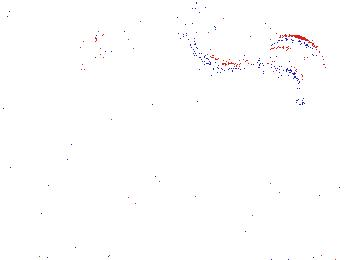moon jellyfish: (186, 1, 272, 72), (57, 1, 156, 61), (5, 7, 76, 80), (259, 36, 326, 104)
